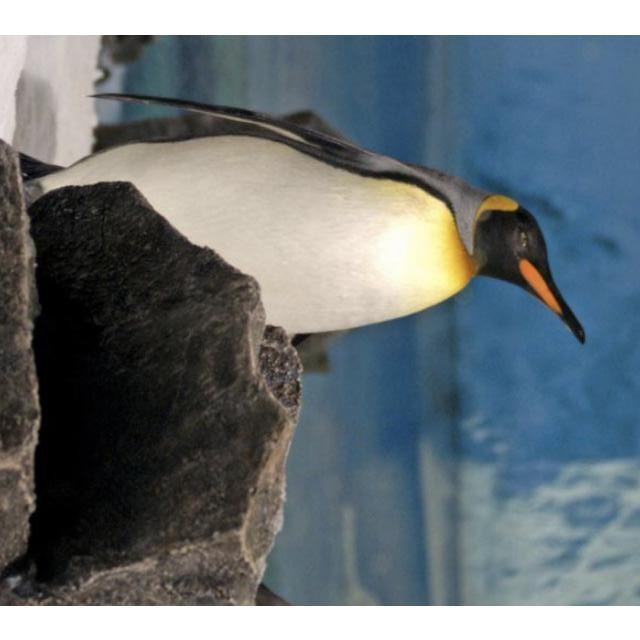penguin: (20, 92, 586, 337)
